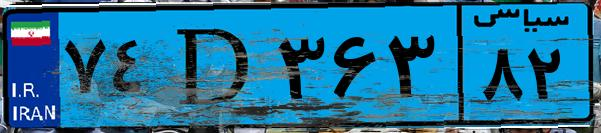2: (525, 38, 570, 115)
3: (270, 28, 330, 110), (385, 28, 445, 110)
4: (110, 28, 158, 98)
6: (330, 28, 385, 110)
7: (57, 26, 110, 100)
8: (475, 38, 525, 113)
D: (158, 12, 270, 120)
